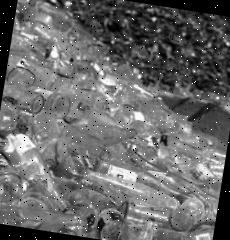glass: (0, 58, 230, 240)
